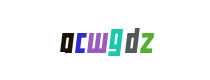C: (39, 0, 119, 80)
D: (75, 0, 155, 80)
G: (64, 0, 144, 80)
O: (27, 0, 107, 80)
W: (58, 0, 138, 80)
Z: (95, 0, 175, 80)
